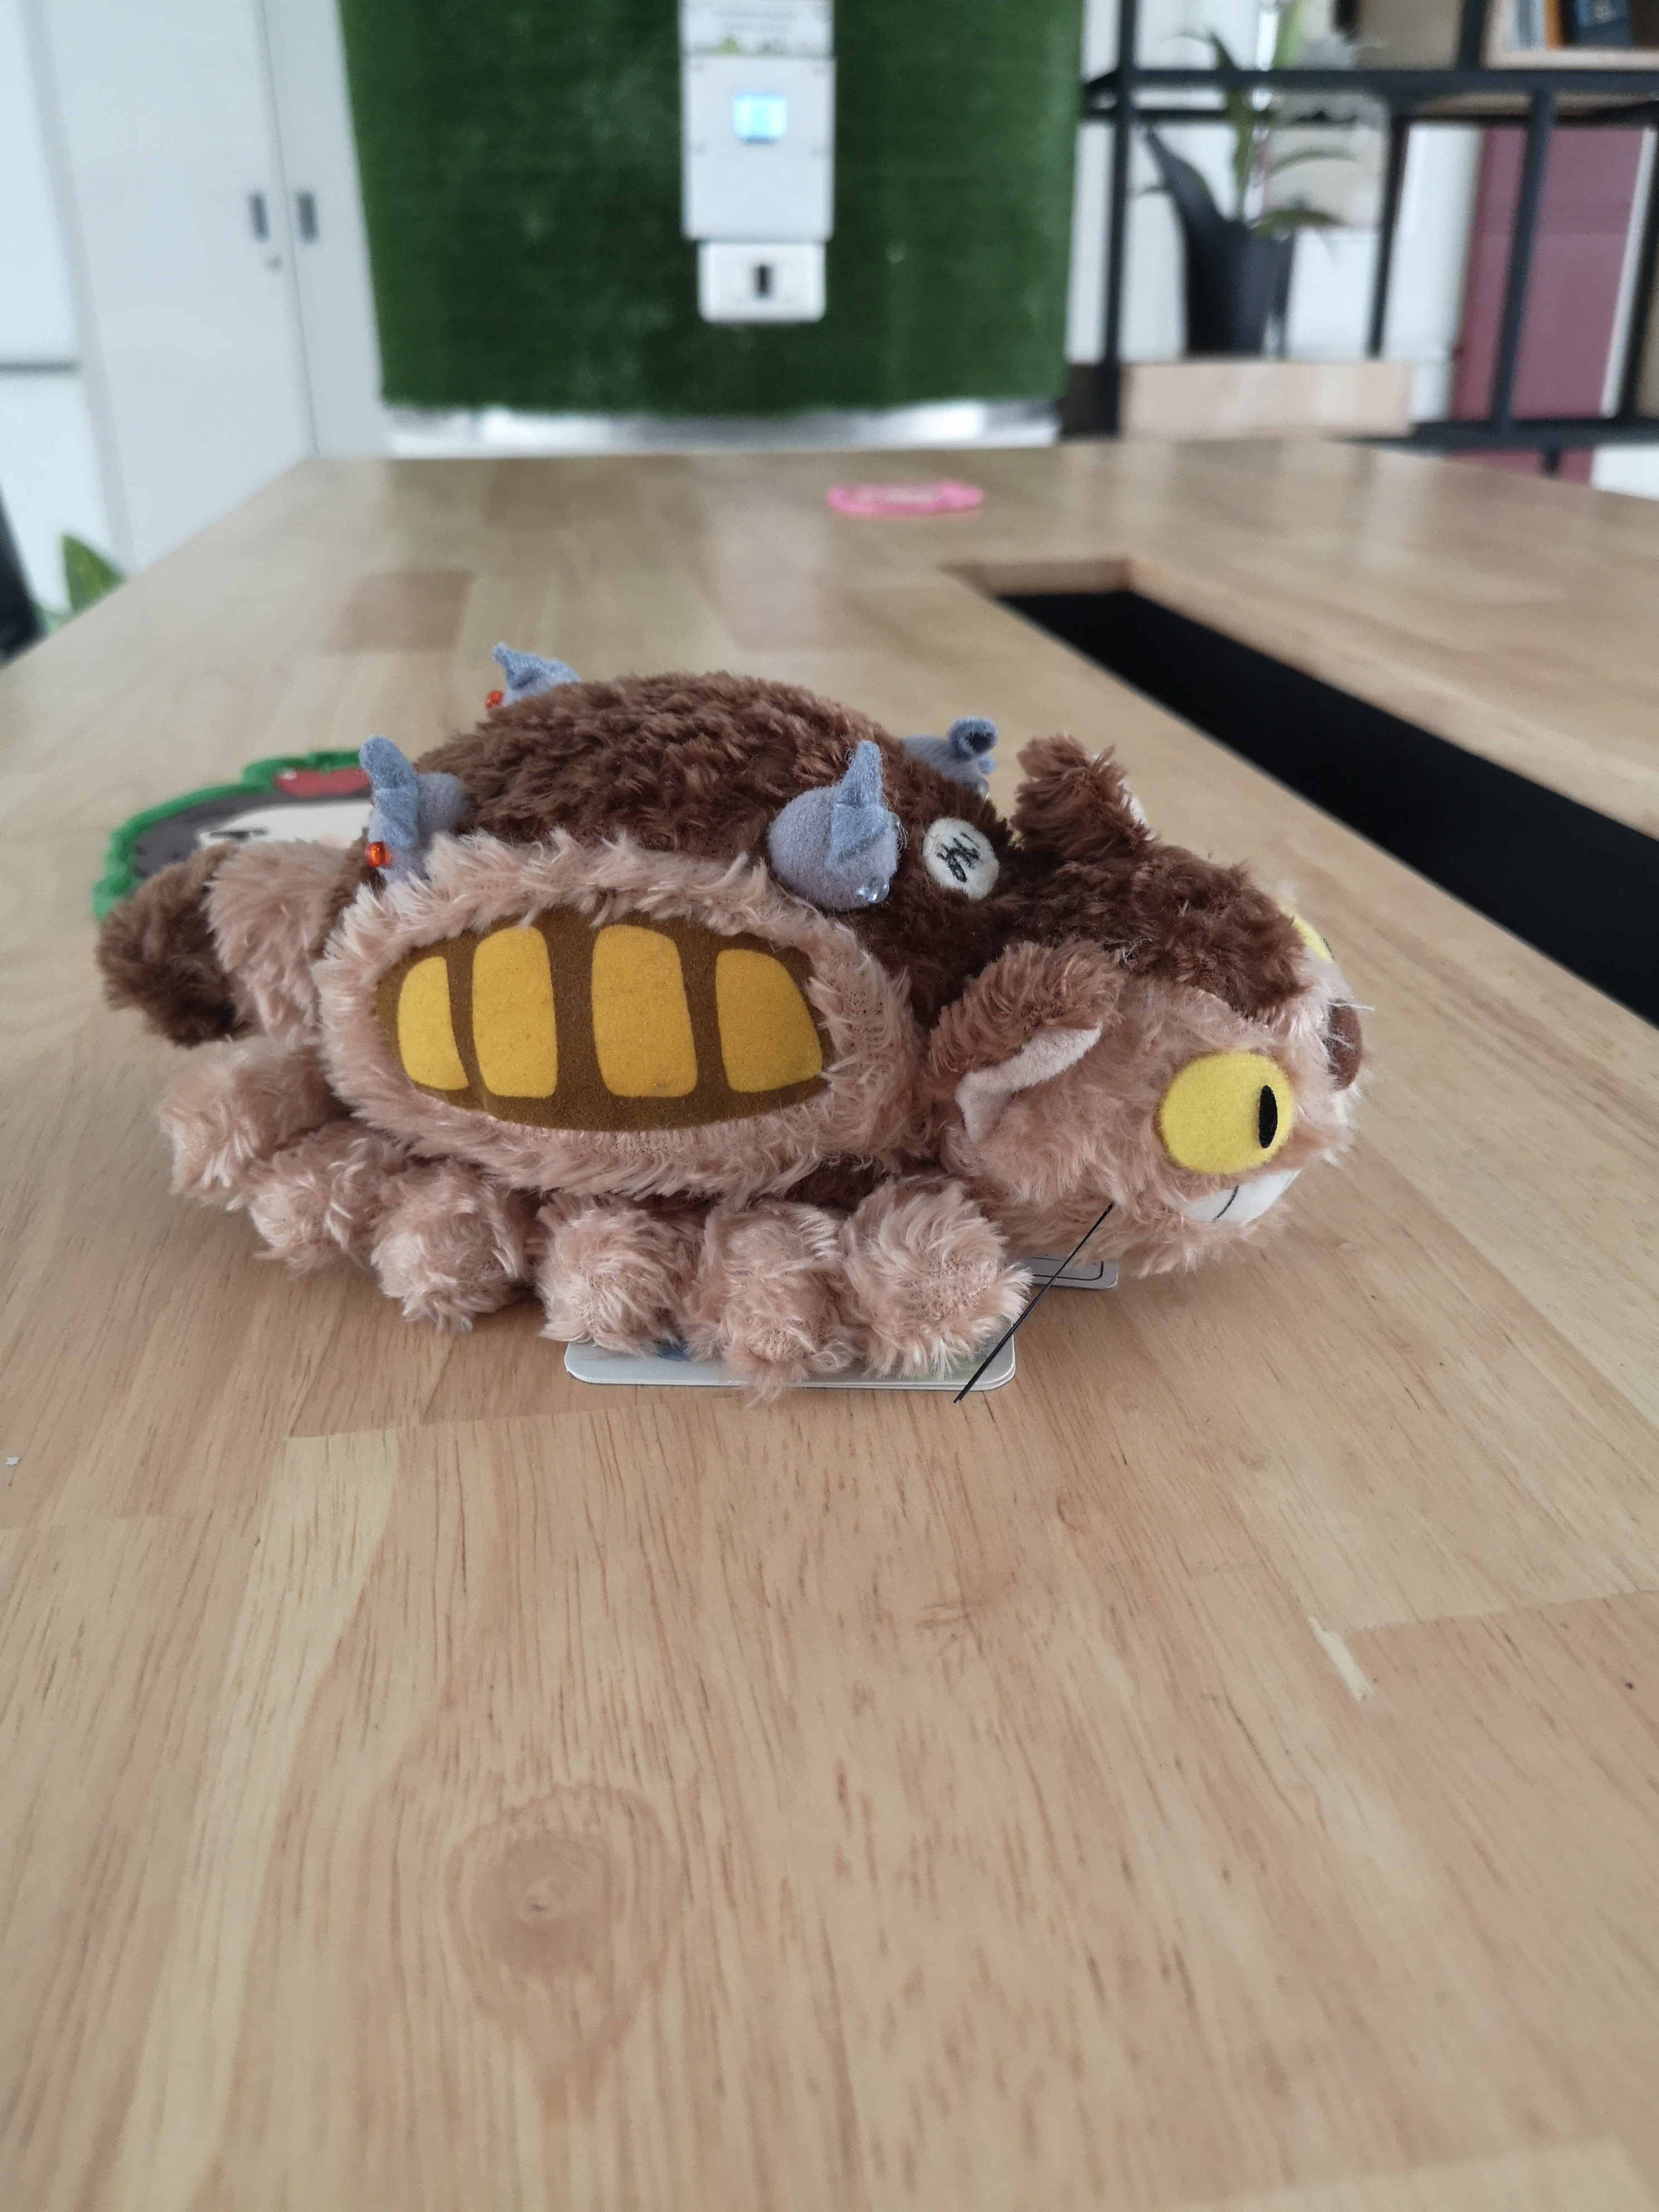nekobus: (84, 632, 1389, 1395)
